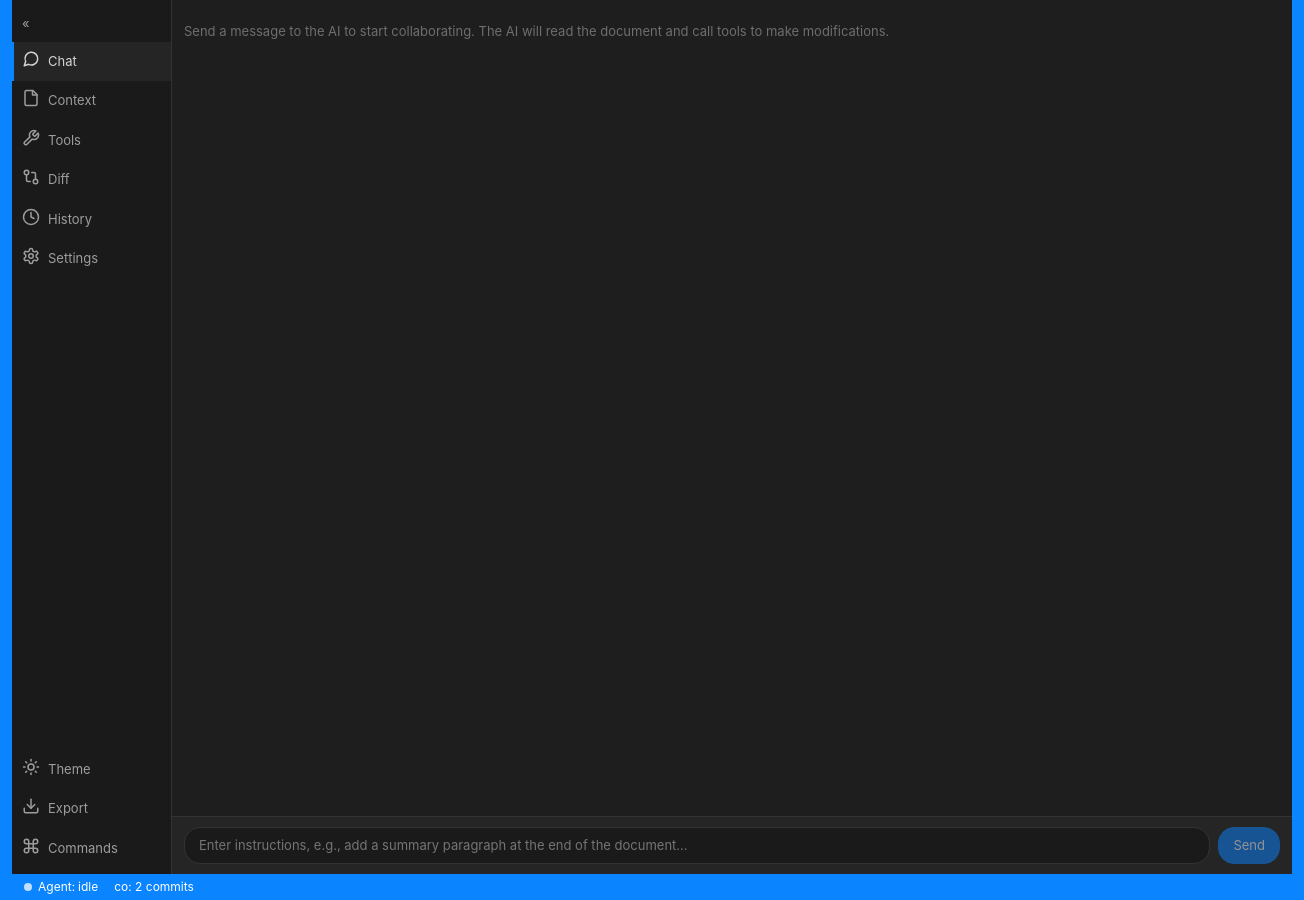
Agent Deck › collapses the review bar to a summary line with accept/reject all
This screenshot has width=1304, height=900.
In the field named "Message Input": {"x": 697, "y": 845} [184,826,1210,864], type "Add a summary"
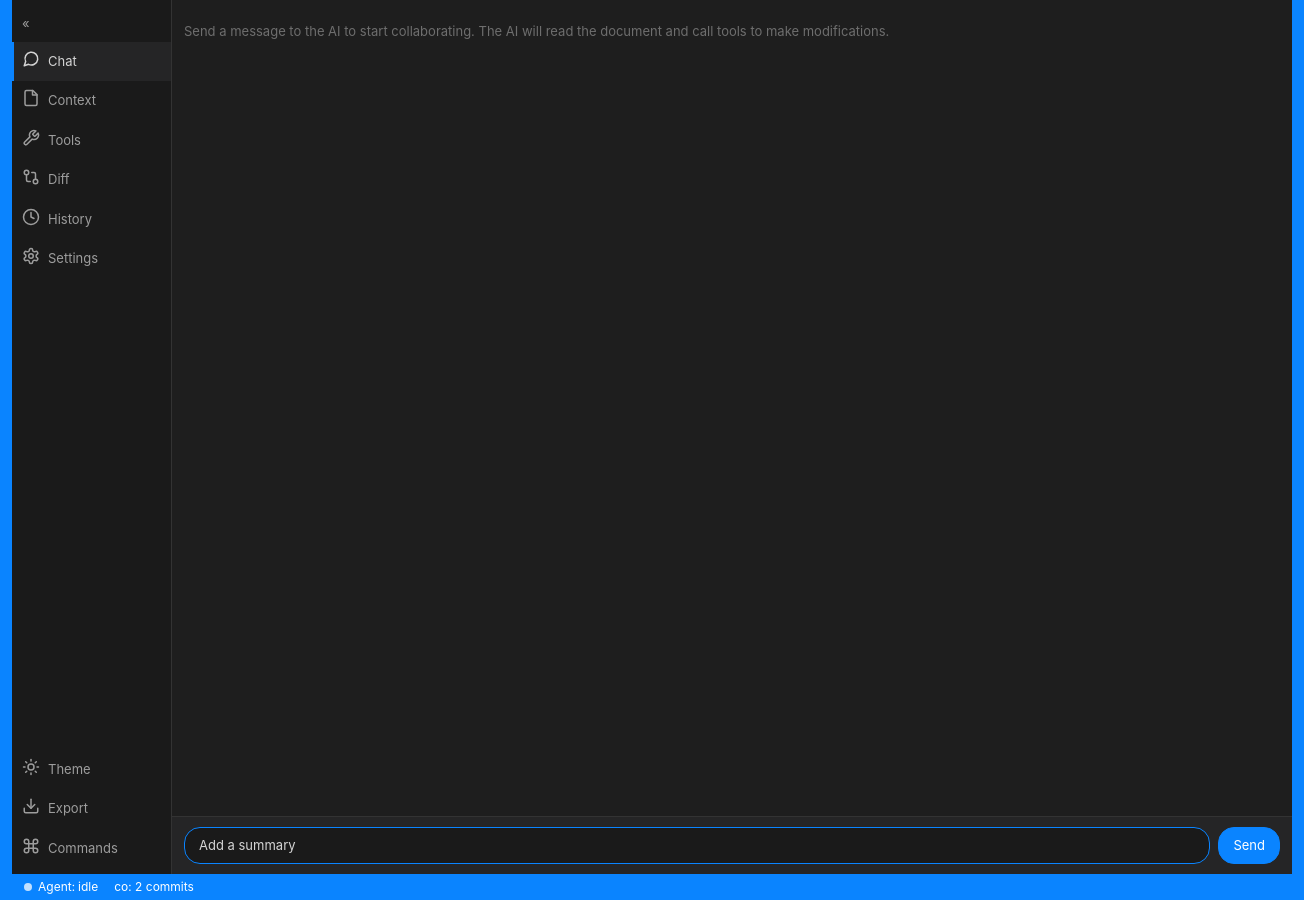
Click the button "Send": {"x": 1249, "y": 845} [1218,826,1280,864]
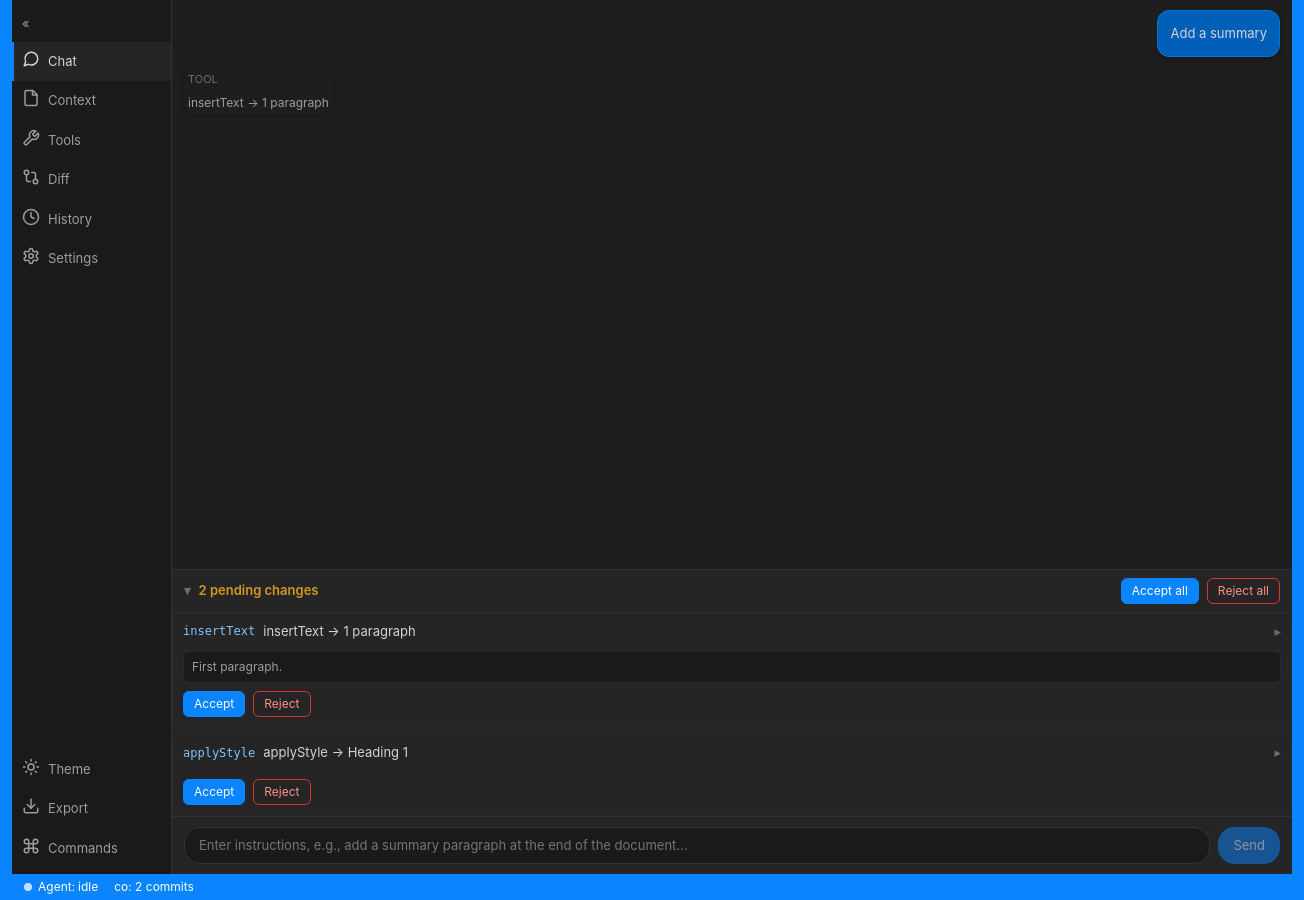
expect the text "2 pending changes" is shown: met, box [198,581,318,600]
expect the button with test id "pending-accept-1" is shown: met, box [183,778,245,804]
Click the button with test id "pending-changes-toggle": {"x": 251, "y": 591} [184,581,318,600]
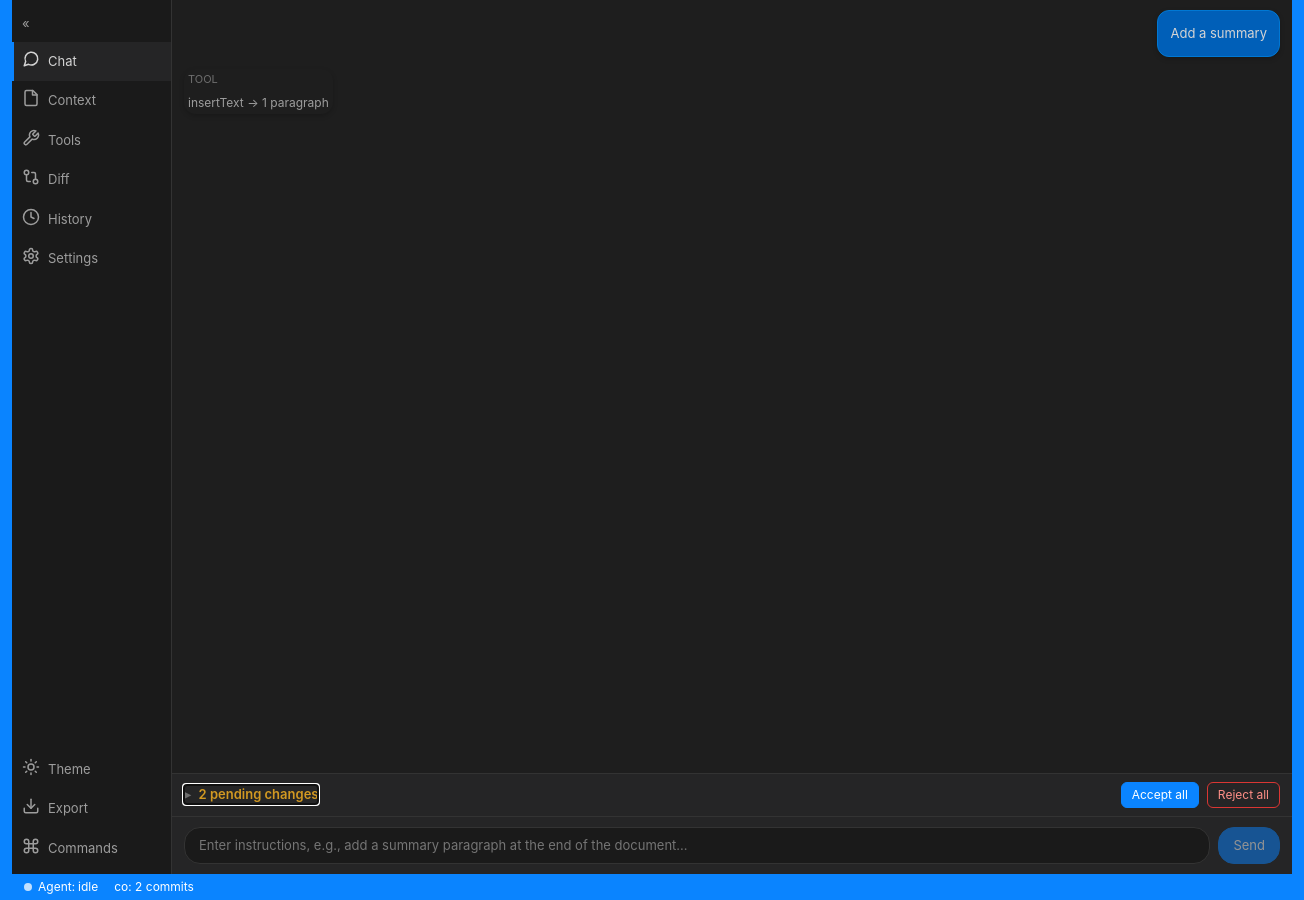
expect the button with test id "pending-accept-all" is shown: met, box [1121,782,1199,808]
expect the button with test id "pending-reject-all" is shown: met, box [1207,782,1280,808]
expect the button with test id "pending-accept-1" is gone: met
